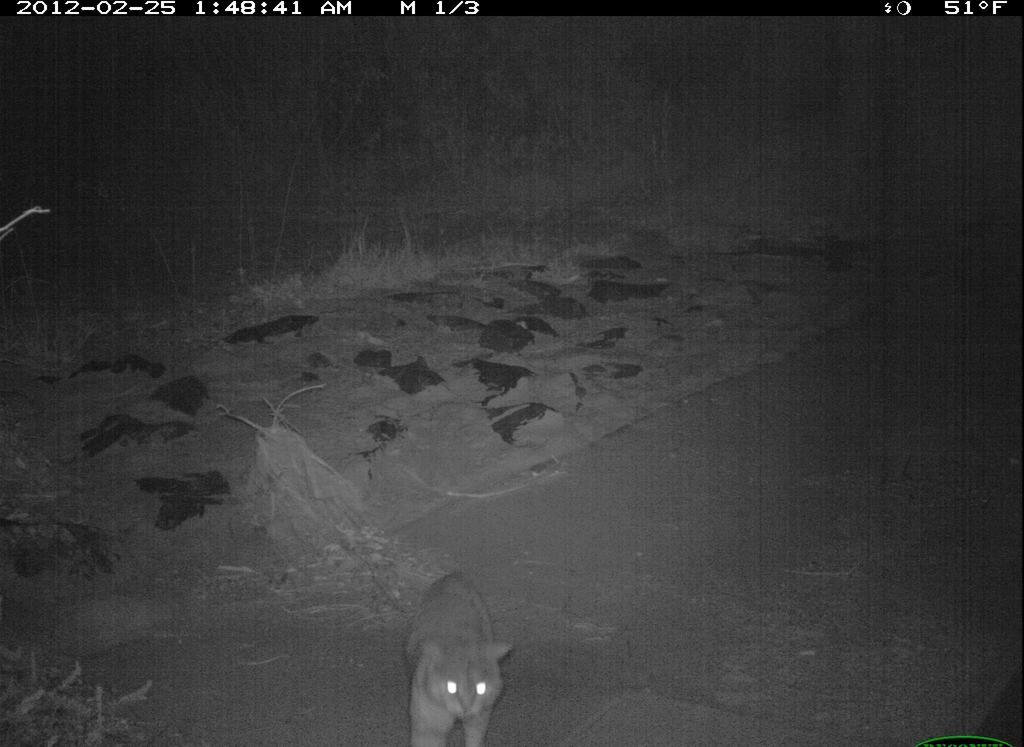cat: (400, 555, 529, 747)
